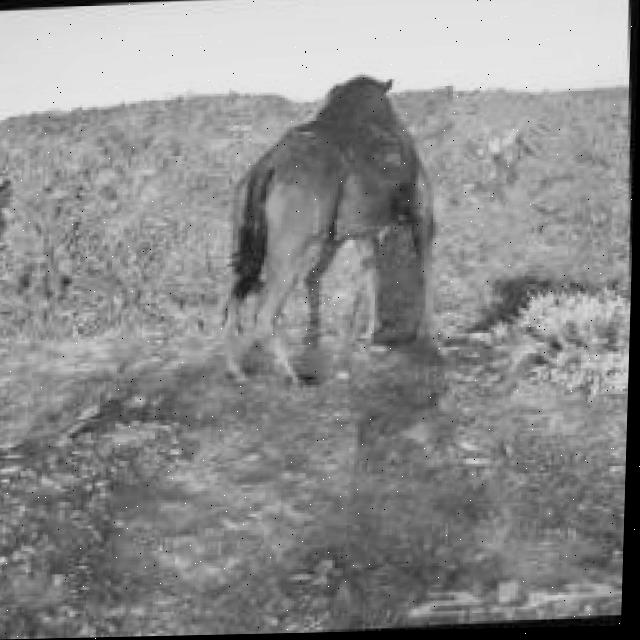Camel: (215, 70, 440, 392)
